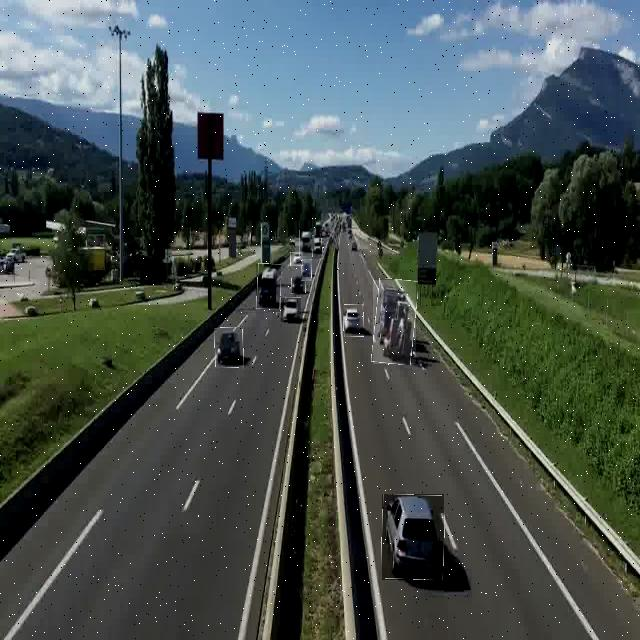Car: (382, 494, 444, 580), (214, 327, 244, 368), (344, 305, 364, 337), (280, 297, 301, 322), (292, 276, 306, 294), (302, 259, 312, 281), (290, 252, 303, 266)
Truck: (373, 280, 416, 364), (256, 264, 281, 309), (299, 230, 312, 256), (312, 235, 323, 259)
